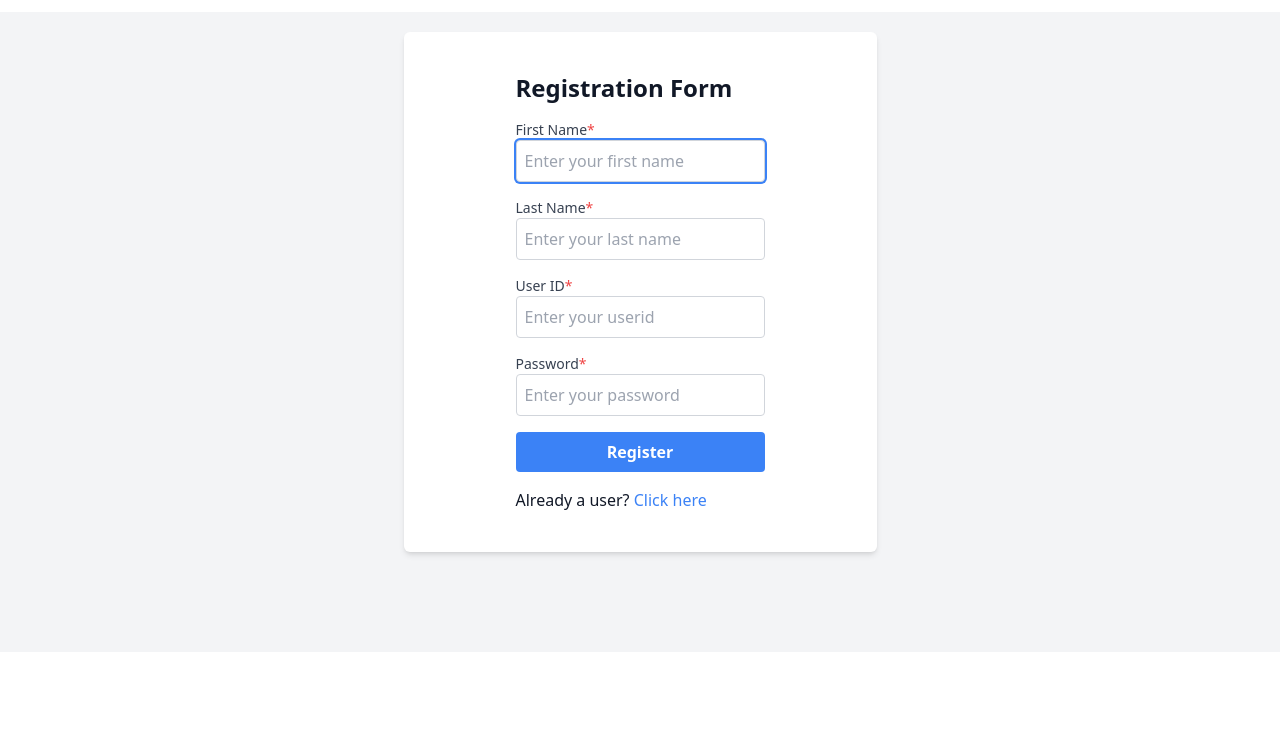
Test: Registration Form › validates fields and displays error messages
The image size is (1280, 732).
Click the button "Register": point(640, 452) [516,432,764,472]
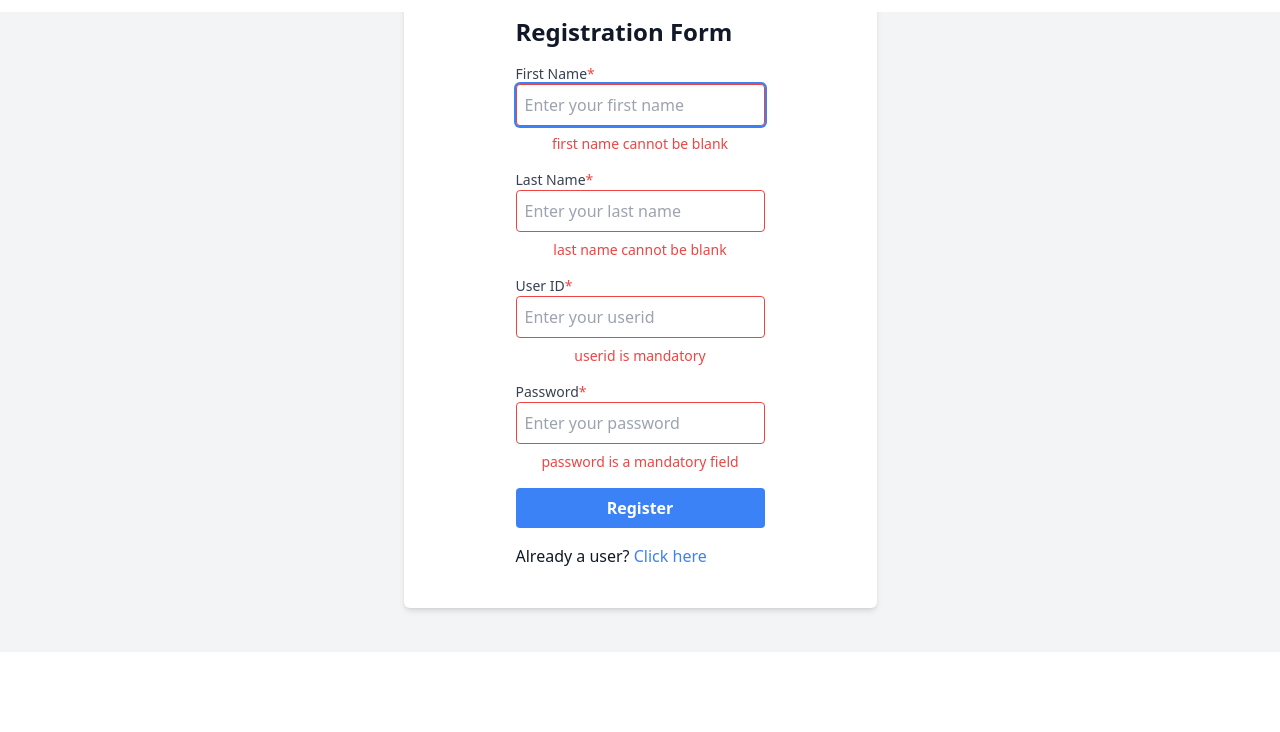
Result: the text "first name cannot be blank" is shown at [552,134,728,153]
Result: the text "last name cannot be blank" is shown at [553,240,727,259]
Result: the text "password is a mandatory field" is shown at [541,452,739,471]
